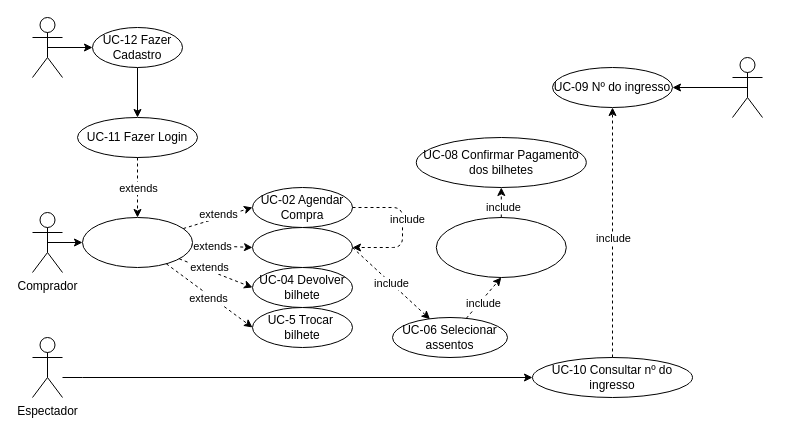
Some shapes in this 786 by 436 pixel diagram are drawn without their labels. The box of each missing label's shape, as (x1, y1, x2, y2) in pixels:
Sistema: (732, 56, 762, 118)
UC-01 Consultar Espetáculos: (82, 216, 192, 268)
UC-03 Comprar bilhete: (252, 226, 352, 268)
UC-07 Consultar Disponibilidade dos assentos: (435, 216, 566, 278)
Usuario: (32, 16, 62, 78)
